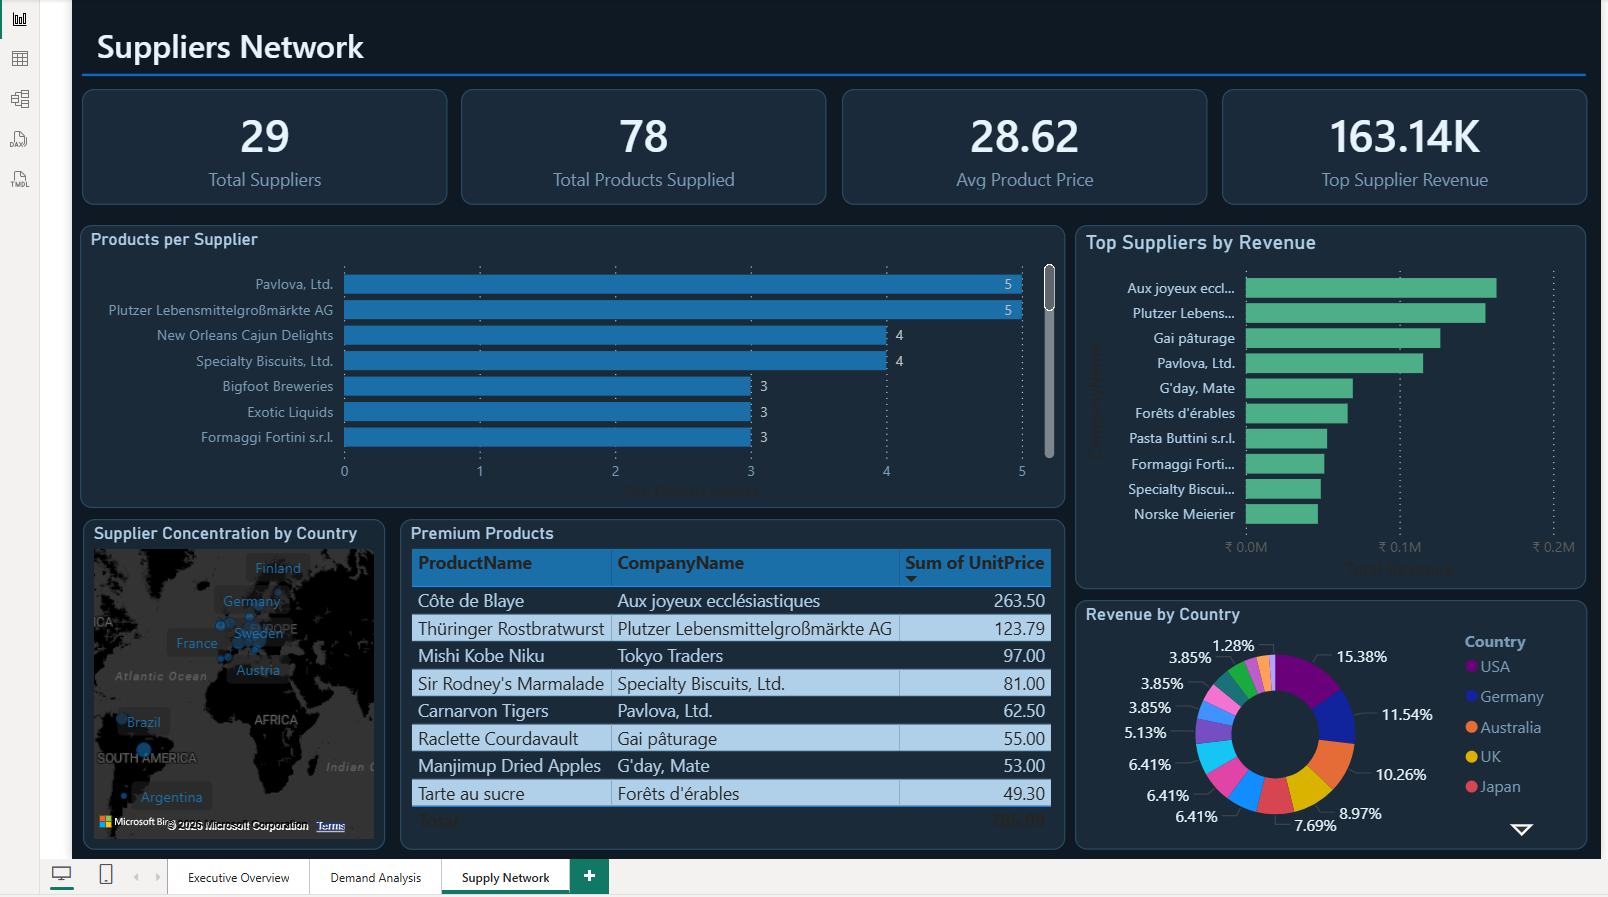

The page's visual inventory and layout, read from the dashboard file:
{"tool":"powerbi","page":{"name":"Supply Network","canvas":[1280,720],"ordinal":2},"visuals":[{"type":"card","fields":{"Values":["supplier.Total Suppliers"]},"box":[8.6,75,306.2,96.6],"z":0},{"type":"card","fields":{"Values":["product.Total Products Supplied"]},"box":[326,75,306.2,96.6],"z":1000},{"type":"card","fields":{"Values":["product.Avg Product Price"]},"box":[644.3,75,306.2,96.6],"z":2000},{"type":"card","fields":{"Values":["order_item.Top Supplier Revenue"]},"box":[962.6,75,306.2,96.6],"z":3000},{"type":"clusteredBarChart","title":"Products per Supplier","fields":{"Category":["supplier.CompanyName"],"Y":["product.Total Products Supplied"]},"box":[7,189.1,824.6,237.2],"z":4000},{"type":"donutChart","title":"Revenue by Country","fields":{"Category":["supplier.Country"],"Y":["product.Total Products Supplied"]},"box":[839.7,503.4,429.3,209.2],"z":5000},{"type":"tableEx","title":"Premium Products","fields":{"Values":["product.ProductName","supplier.CompanyName","Sum(product.UnitPrice)"]},"box":[274.2,435.3,557.4,277.2],"z":6000},{"type":"clusteredBarChart","title":"Top Suppliers by Revenue","fields":{"Y":["order_item.Total Revenue"],"Category":["supplier.CompanyName"]},"box":[839.7,189.1,428.3,305.2],"z":7000},{"type":"map","title":"Supplier Concentration by Country","fields":{"Category":["customer.Country"],"Size":["order_item.Total Revenue"]},"box":[9,435.3,253.2,277.2],"z":8000},{"type":"textbox","box":[15.5,14.7,429.5,50],"z":9000},{"type":"shape","box":[8.6,23.3,1259.3,80.2],"z":10000}]}

Visuals, with their boxes on the page's 1280x720 design canvas (x1, y1, x2, y2). These are canvas units, not pixel positions in the 1608x897 screenshot, which may show the page scaled, cropped or inside an application window:
card - supplier.Total Suppliers: <bbox>9, 75, 315, 172</bbox>
card - product.Total Products Supplied: <bbox>326, 75, 632, 172</bbox>
card - product.Avg Product Price: <bbox>644, 75, 950, 172</bbox>
card - order_item.Top Supplier Revenue: <bbox>963, 75, 1269, 172</bbox>
"Products per Supplier" clusteredBarChart: <bbox>7, 189, 832, 426</bbox>
"Revenue by Country" donutChart: <bbox>840, 503, 1269, 713</bbox>
"Premium Products" tableEx: <bbox>274, 435, 832, 712</bbox>
"Top Suppliers by Revenue" clusteredBarChart: <bbox>840, 189, 1268, 494</bbox>
"Supplier Concentration by Country" map: <bbox>9, 435, 262, 712</bbox>
textbox: <bbox>16, 15, 445, 65</bbox>
shape: <bbox>9, 23, 1268, 104</bbox>
